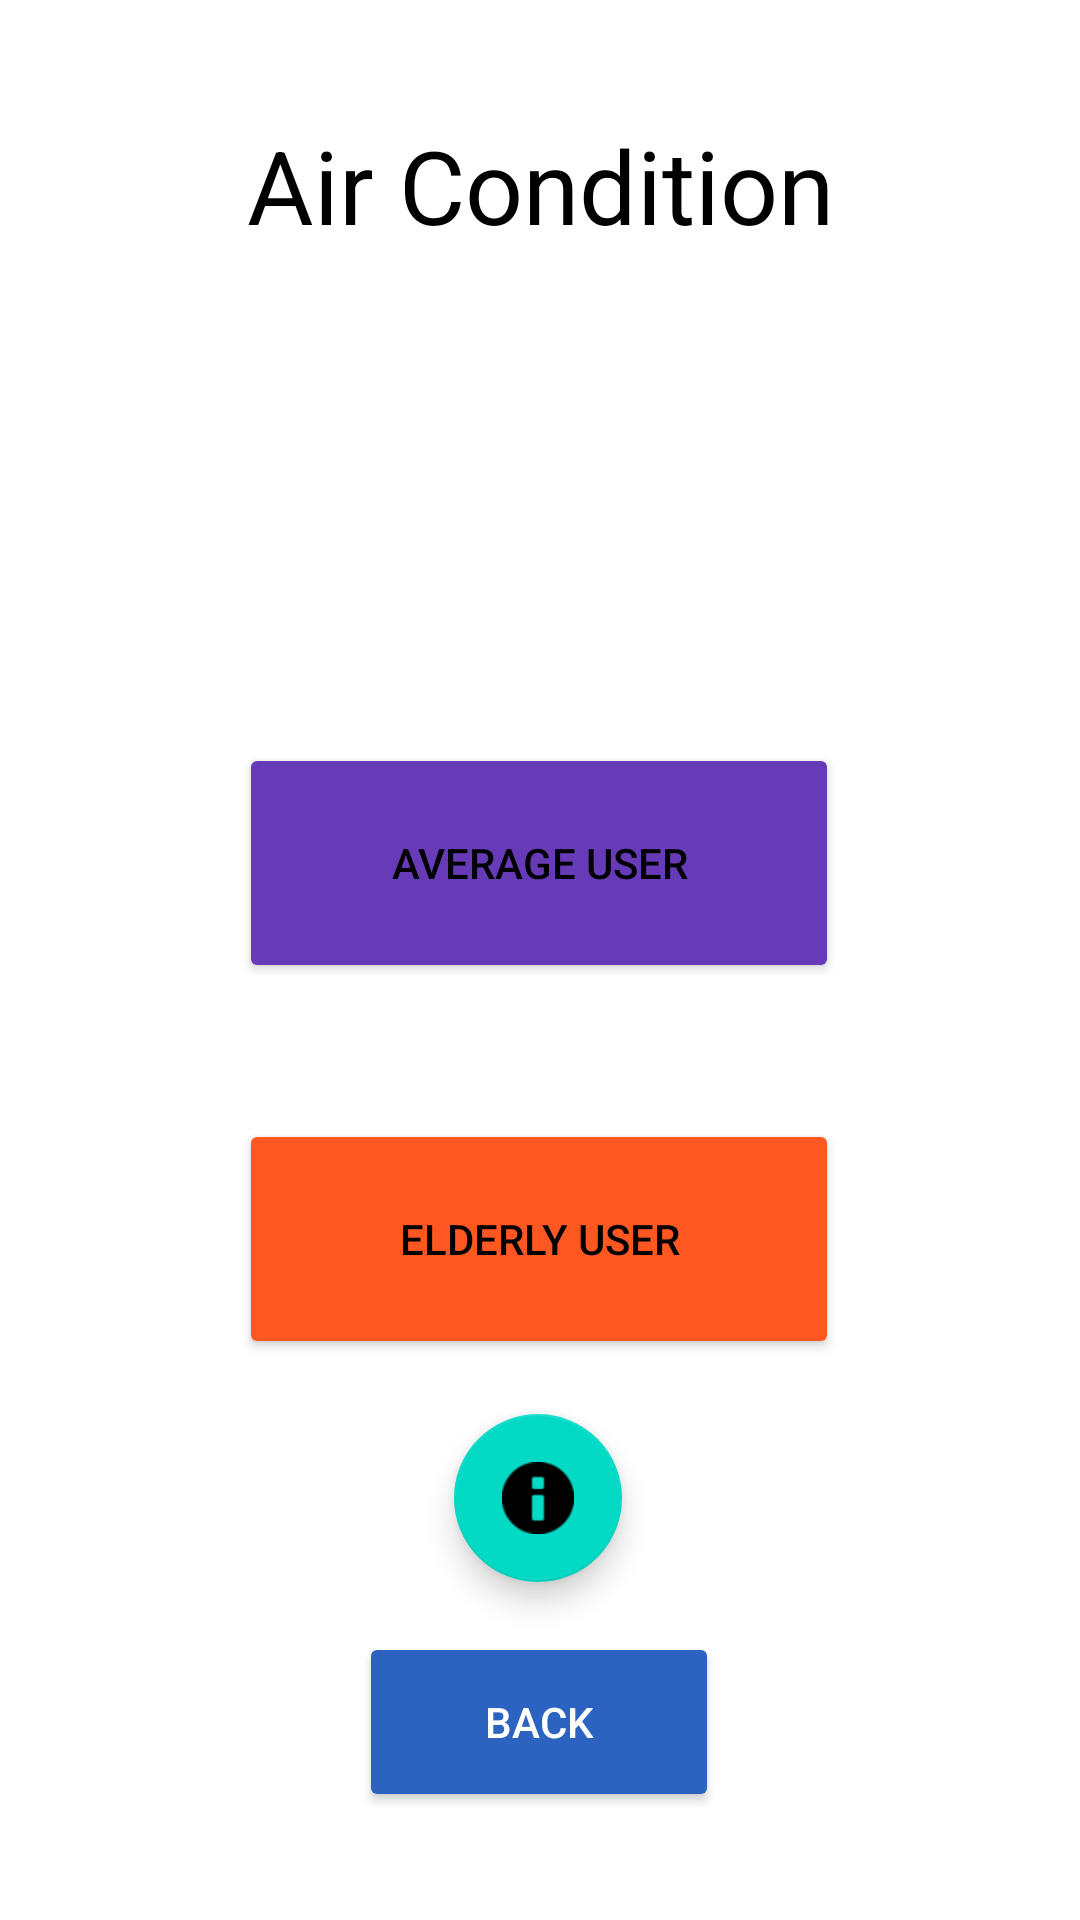

Where to tap for icons on this 1080 x 1920 app screen, as (x=x, y=y):
info: (x=538, y=1498)
